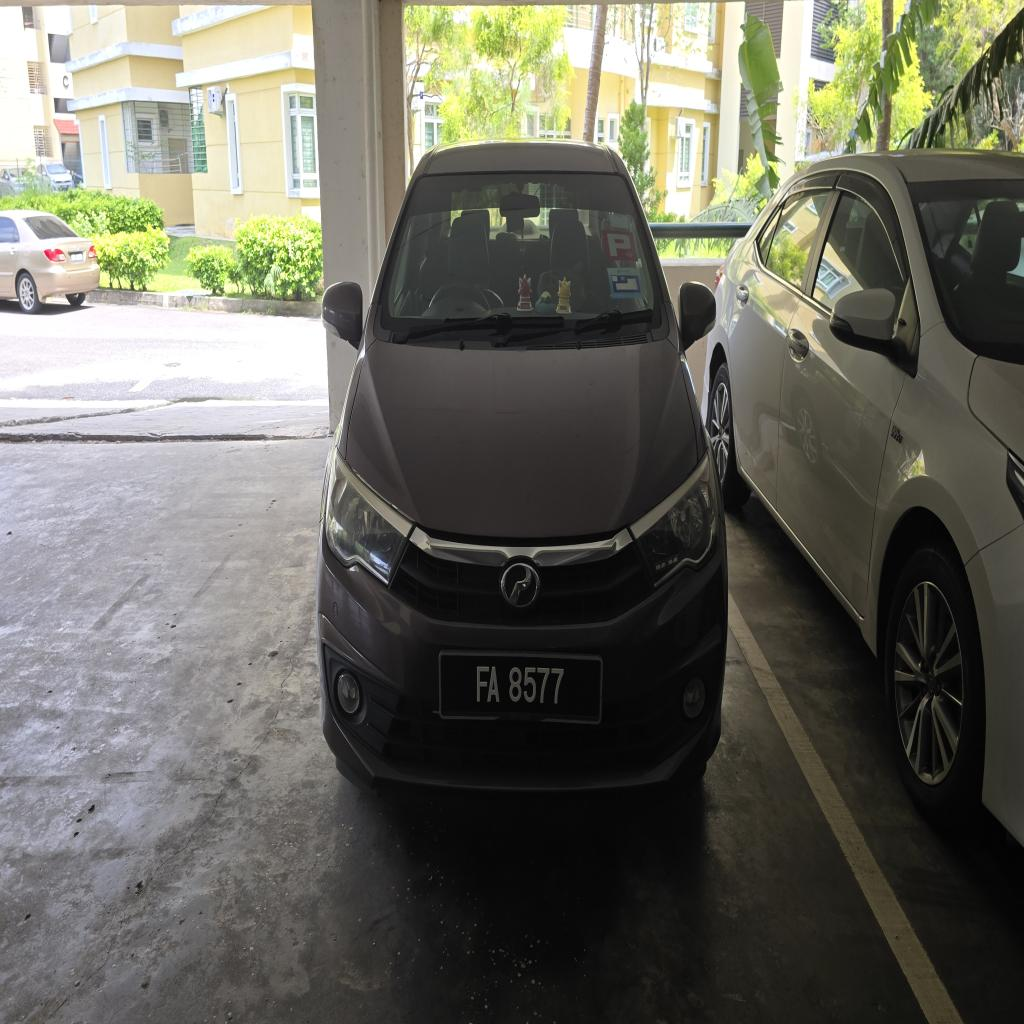car: (317, 142, 726, 789)
car plate: (440, 652, 602, 723)
